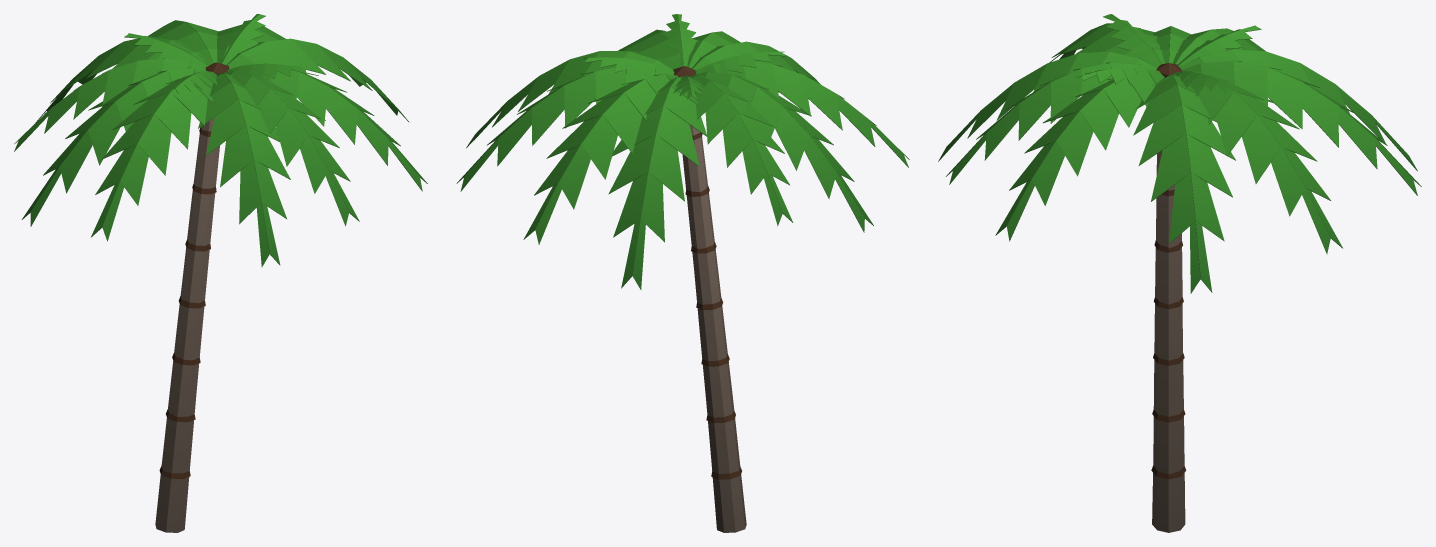
The model's file is tree_palm_02.glb.
3 renders of one model, left to right at view 1: azimuth 30°, elevation 25°; view 2: azimuth 150°, elevation 25°; view 3: azimuth 270°, elevation 25°, orthographic. The views are drawn at different scales.
Parts seen in each view (by area): view 1: tree_palm_02_LOD0; view 2: tree_palm_02_LOD0; view 3: tree_palm_02_LOD0.
Part boxes in pixels (x1,y1,x2,y2): tree_palm_02_LOD0: [14, 14, 427, 532]; tree_palm_02_LOD0: [456, 14, 909, 532]; tree_palm_02_LOD0: [938, 14, 1421, 532].
Size of what is drawn, in the model's own units: 6.48 by 7.38 by 6.47.
1 material, 1 textured.
